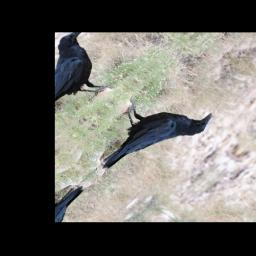Crow: (75, 77, 220, 192)
